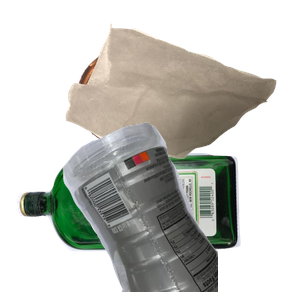glass: (14, 150, 247, 300)
metal: (74, 41, 229, 181)
plastic: (60, 120, 300, 300)
trash: (63, 21, 300, 172)
